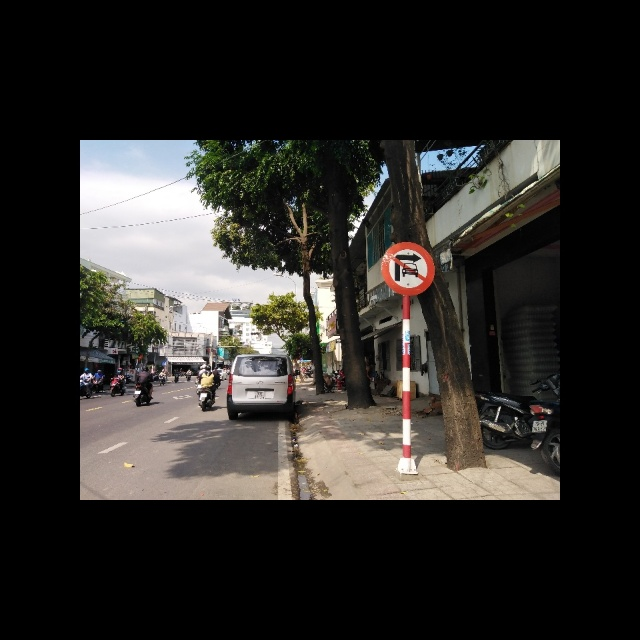Cấm xe ô tô rẽ trái: (380, 240, 437, 297)
